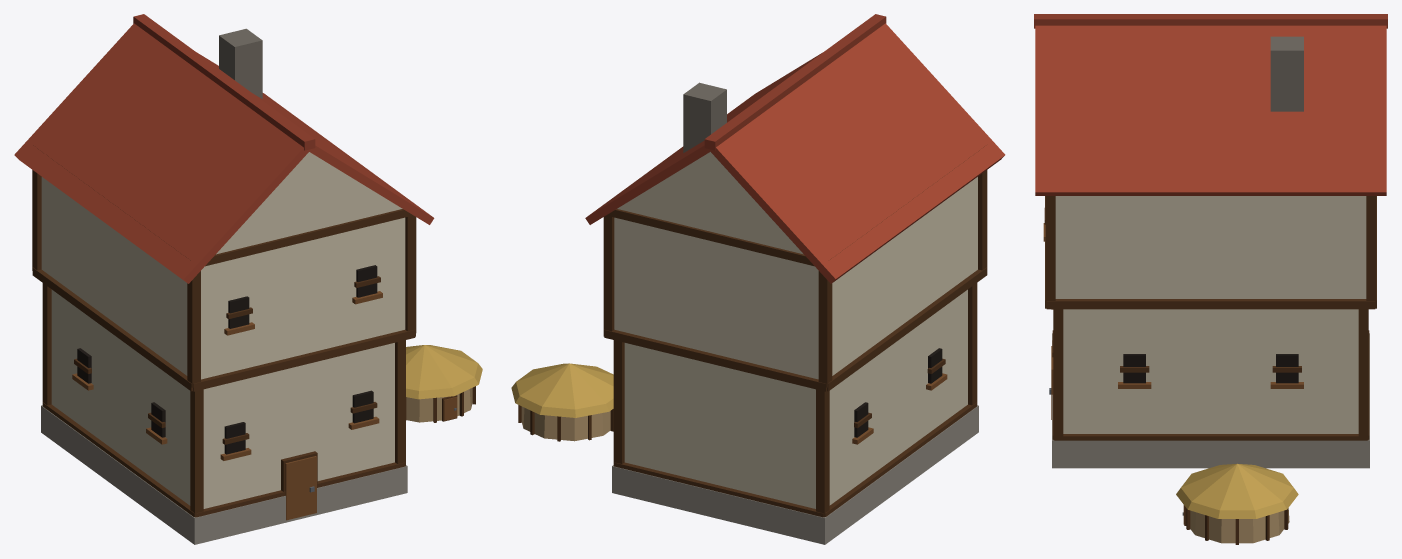
The model's file is human_hall.glb.
3 views of the same model, side by side, from view 1: azimuth 30°, elevation 25°; view 2: azimuth 150°, elevation 25°; view 3: azimuth 270°, elevation 25° (orthographic). The views are drawn at different scales.
Parts seen in each view (by area): view 1: human_hall; view 2: human_hall; view 3: human_hall.
Part boxes in pixels (x1,y1,x2,y2): human_hall: (14, 14, 482, 544); human_hall: (511, 14, 1005, 544); human_hall: (1034, 14, 1387, 544).
Size of the model in its own units: 5.27 by 5.01 by 4.03.
